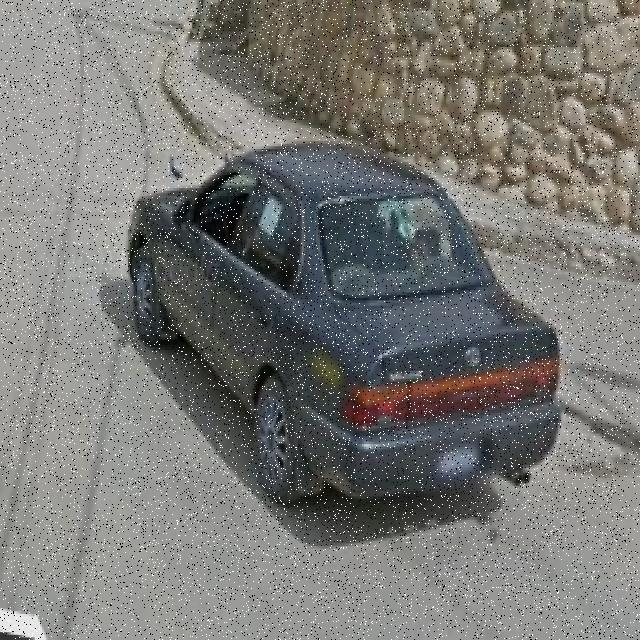cars: (133, 119, 560, 488)
